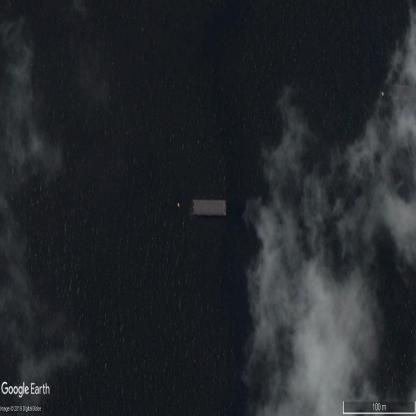ship: (192, 200, 227, 216)
